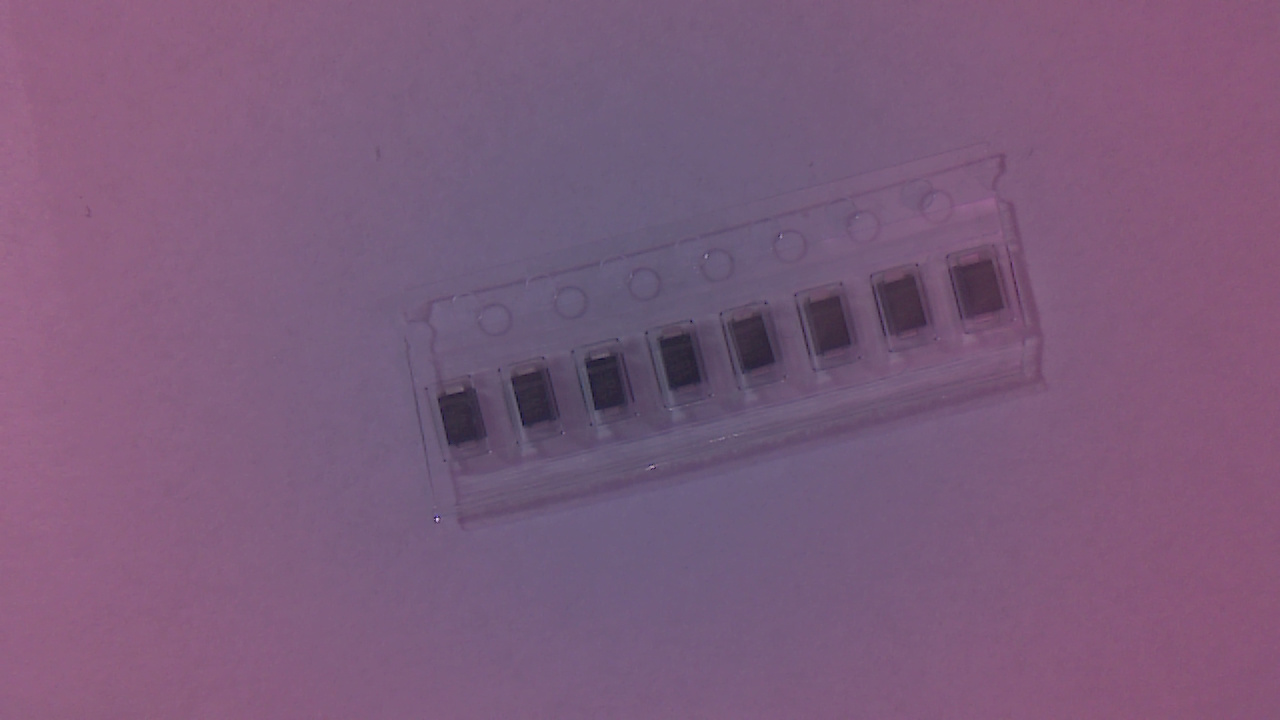Diode: (955, 257, 1010, 335), (877, 272, 933, 348), (660, 331, 717, 401), (807, 292, 859, 367), (442, 388, 495, 458), (731, 314, 783, 384), (513, 369, 564, 438), (589, 351, 638, 422)
